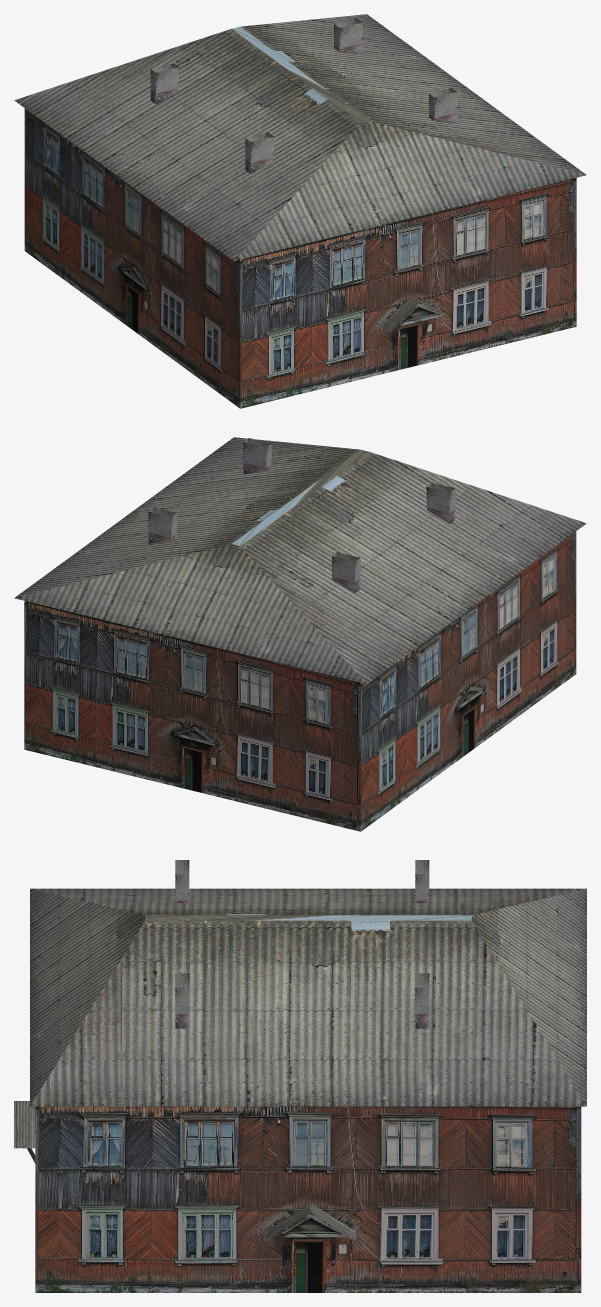
The model's file is minihouse_3.fbx.
3 views of the same model, one above another, from view 1: azimuth 30°, elevation 25°; view 2: azimuth 150°, elevation 25°; view 3: azimuth 270°, elevation 25° (orthographic). The views are drawn at different scales.
Visible parts, largest first — view 1: 4aa321c9-8681-440f-a69b-01080cdddbf3; view 2: 4aa321c9-8681-440f-a69b-01080cdddbf3; view 3: 4aa321c9-8681-440f-a69b-01080cdddbf3.
Boxes of the visible parts, x1,y1,x2,y2 form: 4aa321c9-8681-440f-a69b-01080cdddbf3: (14,14,586,408); 4aa321c9-8681-440f-a69b-01080cdddbf3: (14,437,586,831); 4aa321c9-8681-440f-a69b-01080cdddbf3: (14,860,586,1292).
Size of the model in its own units: 13.31 by 7.57 by 14.5.
1 material, 1 textured.
